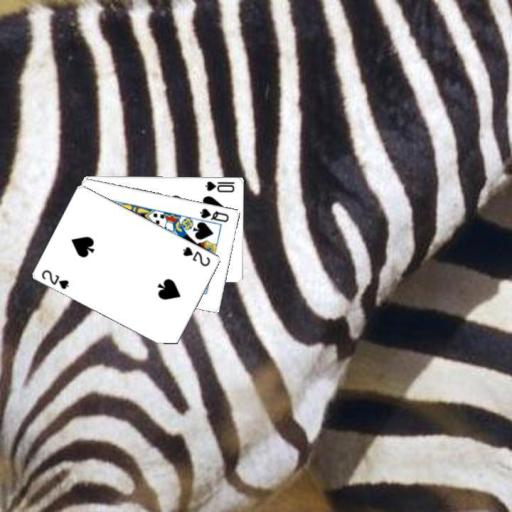10S: (202, 178, 236, 193)
2S: (180, 243, 212, 268), (39, 267, 71, 291)
QS: (197, 205, 230, 223)
